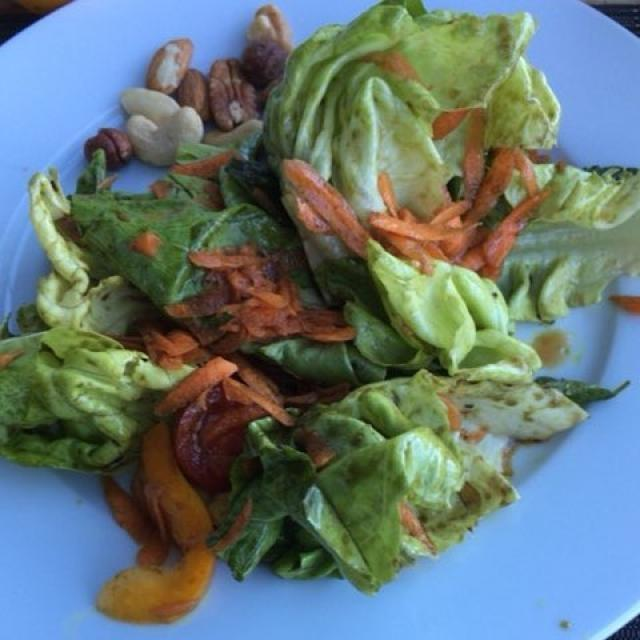mixed-nuts: (78, 21, 284, 178)
salad: (20, 22, 631, 538)
